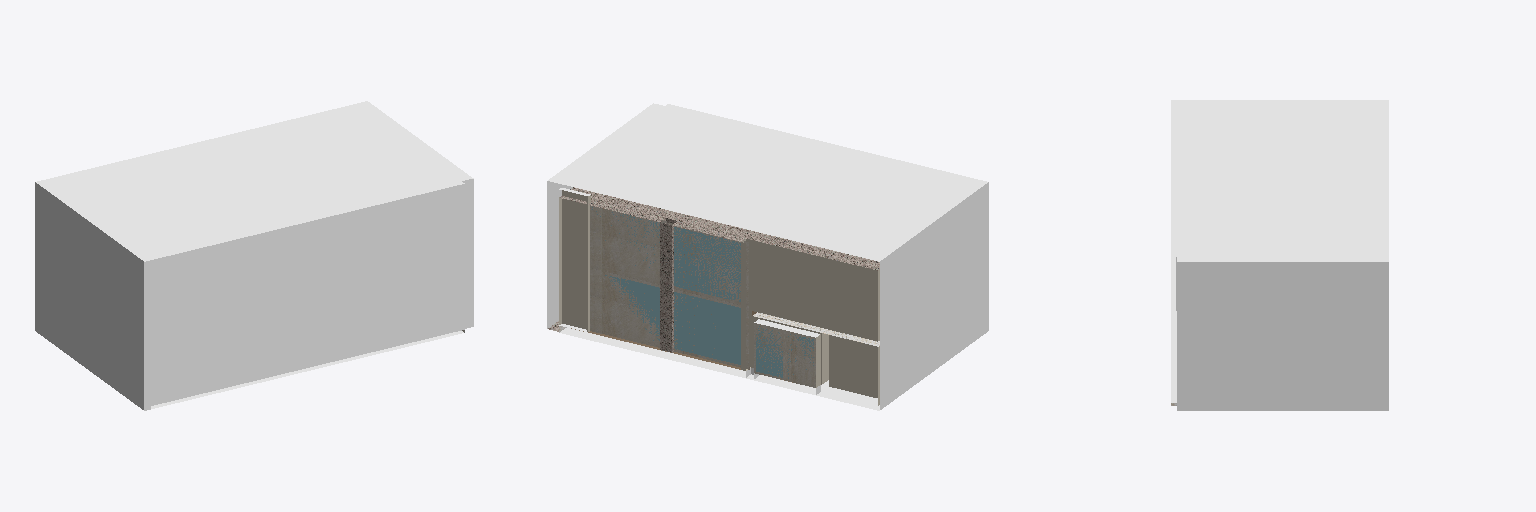
3 renders of one model, left to right at view 1: azimuth 30°, elevation 25°; view 2: azimuth 150°, elevation 25°; view 3: azimuth 270°, elevation 25°, orthographic.
Visible parts, largest first — view 1: Mesh186 Model; view 2: Mesh186 Model, Mesh83 ventana_1_3 Model, Mesh84 ventana_1_4 Model, Mesh81 ventana_1_1 Model, Mesh82 ventana_1_2 Model, Mesh184 ventana_1_5 Stair_details1 Model, Mesh185 ventana_1_6 Stair_details1 Model; view 3: Mesh186 Model.
Boxes of the visible parts, box(x1,y1,x2,y2) form: Mesh186 Model: box(35, 101, 473, 410); Mesh186 Model: box(547, 103, 988, 410); Mesh83 ventana_1_3 Model: box(668, 223, 748, 306); Mesh84 ventana_1_4 Model: box(590, 203, 666, 284); Mesh81 ventana_1_1 Model: box(590, 268, 659, 347); Mesh82 ventana_1_2 Model: box(674, 289, 749, 369); Mesh184 ventana_1_5 Stair_details1 Model: box(754, 323, 784, 379); Mesh185 ventana_1_6 Stair_details1 Model: box(785, 330, 815, 387); Mesh186 Model: box(1171, 100, 1388, 410).
Size of the model in its own units: 20.83 by 8.94 by 11.85.
18 materials, 4 textured.